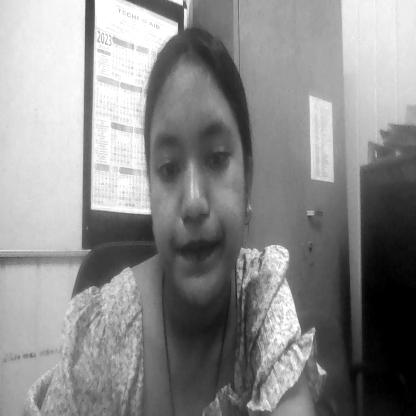Normal: (149, 78, 251, 293)
